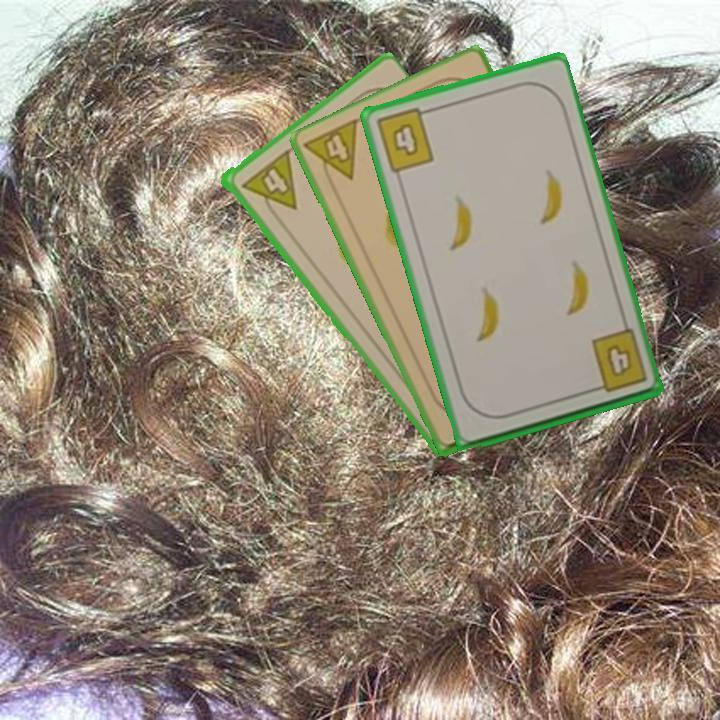4b: (371, 104, 437, 176), (586, 325, 650, 396)
4p: (236, 147, 300, 224), (300, 115, 361, 194)
